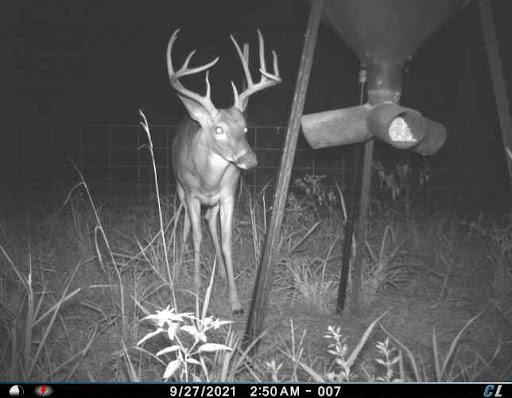Deer: (162, 18, 289, 339)
